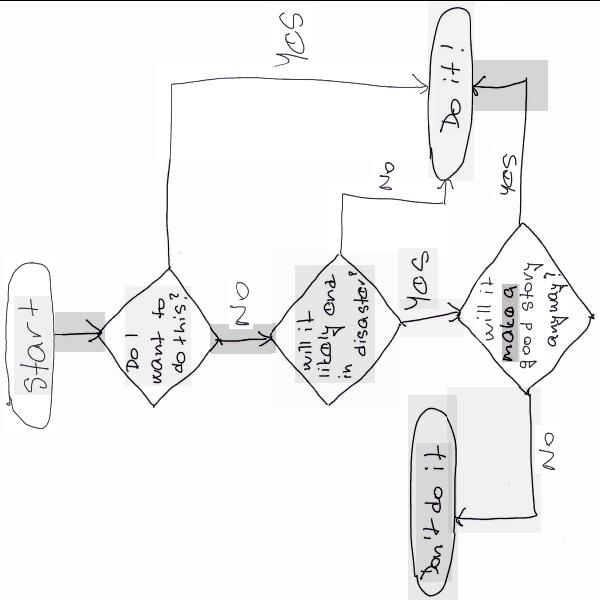arrow: (156, 62, 428, 158), (448, 386, 542, 532), (328, 177, 454, 254), (474, 59, 548, 110), (400, 298, 464, 336), (55, 311, 105, 351), (210, 322, 276, 352)
decision: (272, 252, 399, 406)
terminator: (408, 394, 458, 600), (4, 255, 62, 432), (428, 0, 474, 180)
text: (295, 264, 375, 382), (125, 285, 191, 385), (416, 442, 452, 581), (14, 295, 52, 394), (266, 2, 315, 69), (518, 255, 544, 370), (436, 40, 468, 132), (398, 247, 438, 308), (476, 276, 498, 343), (546, 278, 568, 345), (502, 283, 520, 361), (493, 146, 520, 197), (535, 424, 562, 472), (229, 276, 253, 328), (371, 156, 402, 194)
